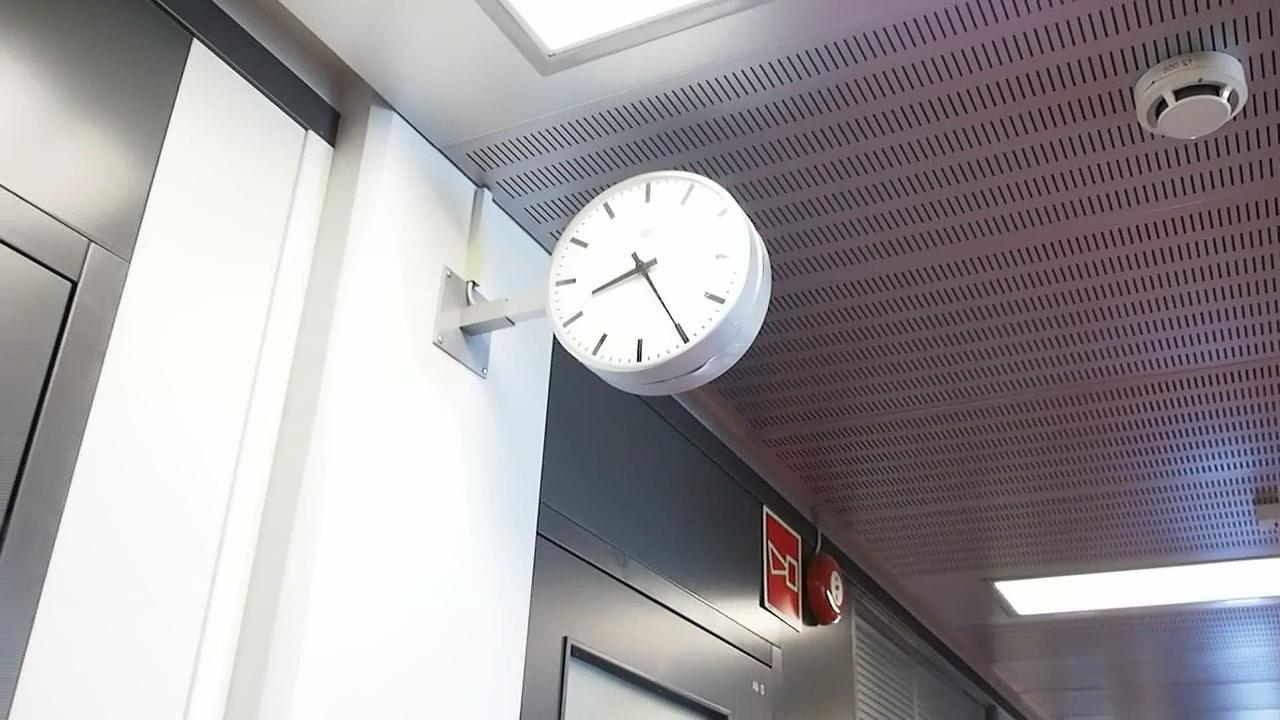clock: (538, 166, 771, 391)
